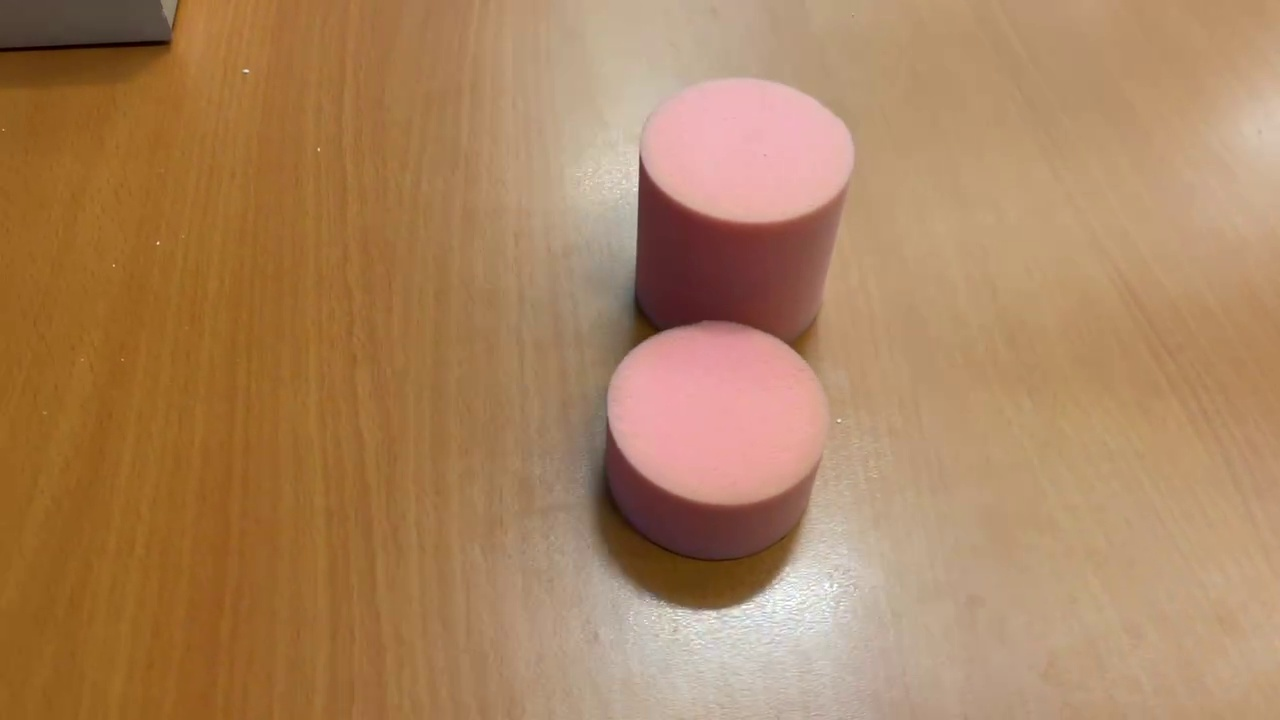Clyinder_short: (598, 316, 834, 565)
Cylinder: (628, 74, 859, 345)
